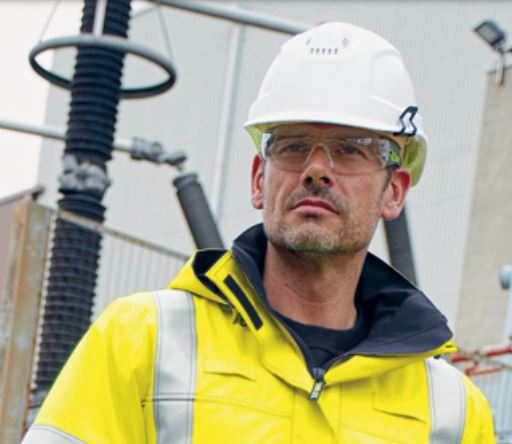Safety Helmet: (237, 10, 433, 277)
